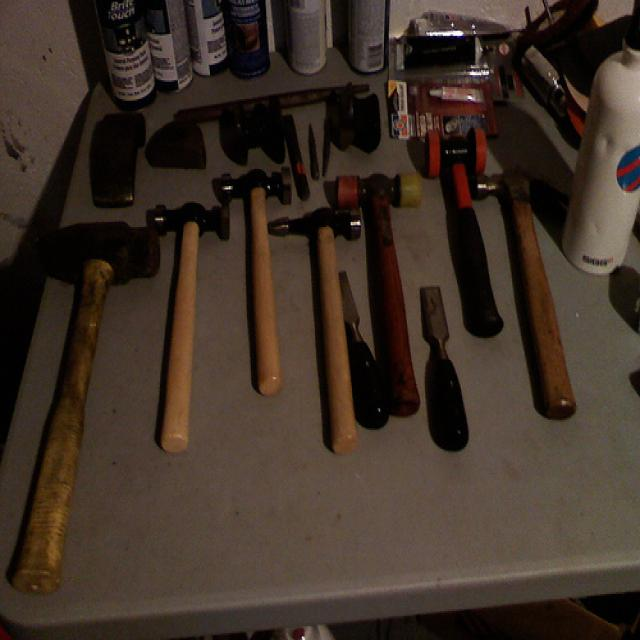hammer: (139, 181, 227, 498), (269, 198, 376, 412)
